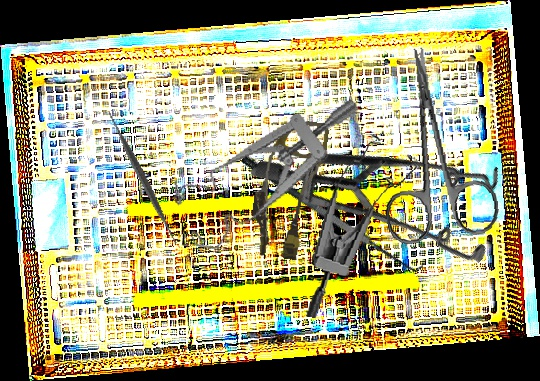Cannula: (247, 115, 330, 263)
Iris Scissors: (366, 39, 502, 247)
Spatula Surgical: (239, 139, 428, 284), (68, 105, 217, 252)
Speculum: (248, 46, 536, 333), (161, 98, 382, 255), (304, 129, 421, 328)
